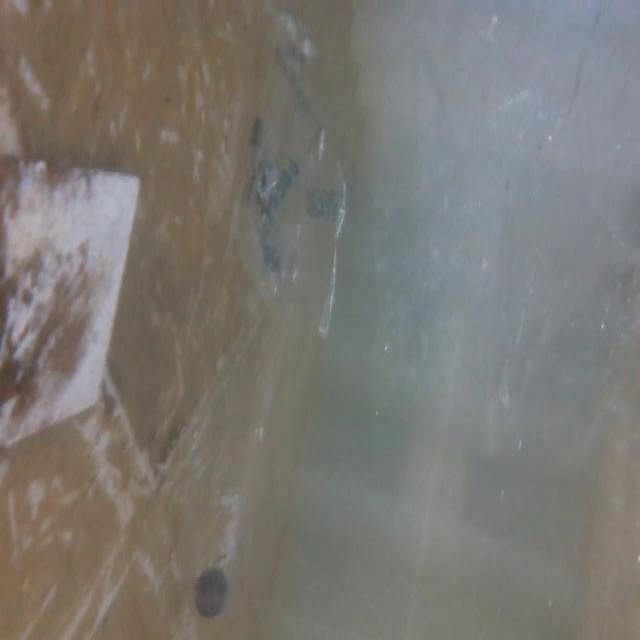metal: (0, 163, 149, 456)
plastic bags: (385, 0, 640, 471), (220, 27, 364, 362)
plastic bottle: (178, 405, 270, 609)
